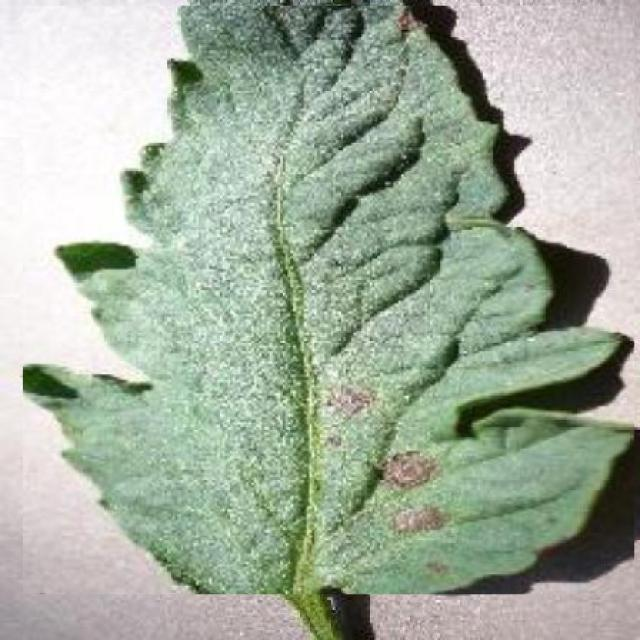Early Blight: (24, 5, 635, 595)
